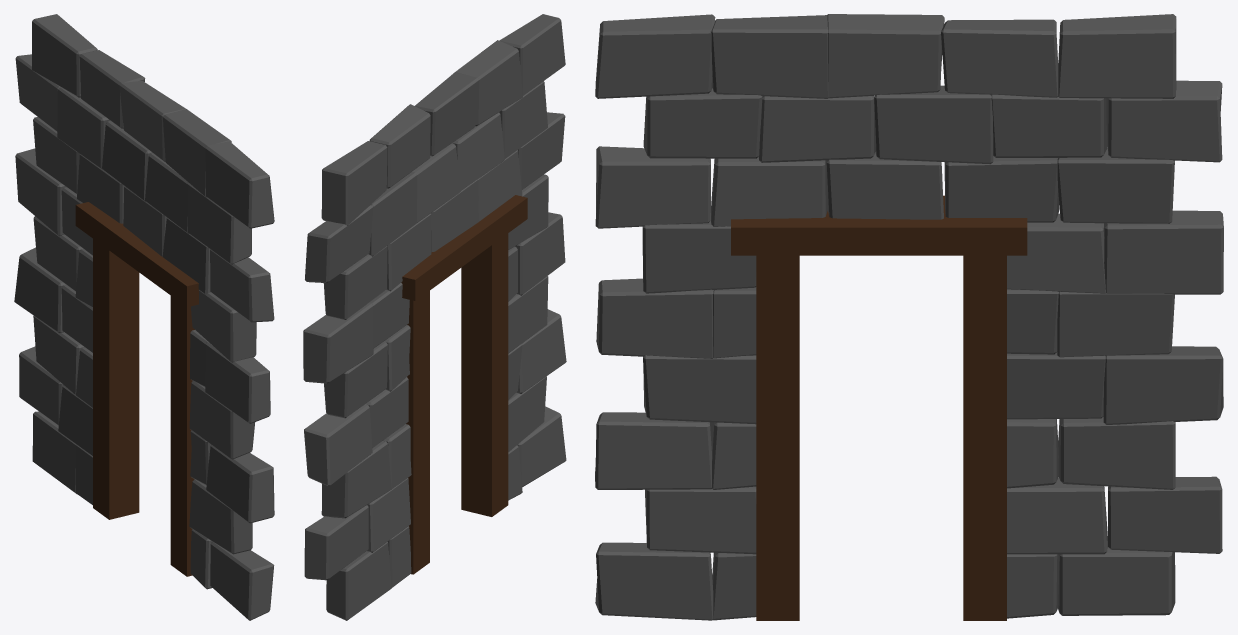
The model's file is BrickWall-Stone-Door.fbx.
The picture shows the model from 3 angles, left to right: view 1: azimuth 30°, elevation 25°; view 2: azimuth 150°, elevation 25°; view 3: azimuth 270°, elevation 25°; orthographic projection. The views are drawn at different scales.
Visible parts, largest first — view 1: Stone wall door hole, Frame02, Frame01, Frame03; view 2: Stone wall door hole, Frame01, Frame02, Frame03; view 3: Stone wall door hole, Frame01, Frame02, Frame03.
Part boxes in pixels (x1,y1,x2,y2): Stone wall door hole: (14, 14, 274, 620); Frame02: (93, 239, 139, 519); Frame01: (170, 296, 194, 576); Frame03: (75, 202, 198, 307); Stone wall door hole: (303, 14, 566, 620); Frame01: (461, 233, 508, 516); Frame02: (406, 291, 429, 574); Frame03: (401, 195, 527, 300); Stone wall door hole: (595, 14, 1223, 620); Frame01: (756, 255, 799, 620); Frame02: (963, 255, 1006, 620); Frame03: (731, 195, 1027, 255).
Size of the model in its own units: 105 by 907 by 874.
